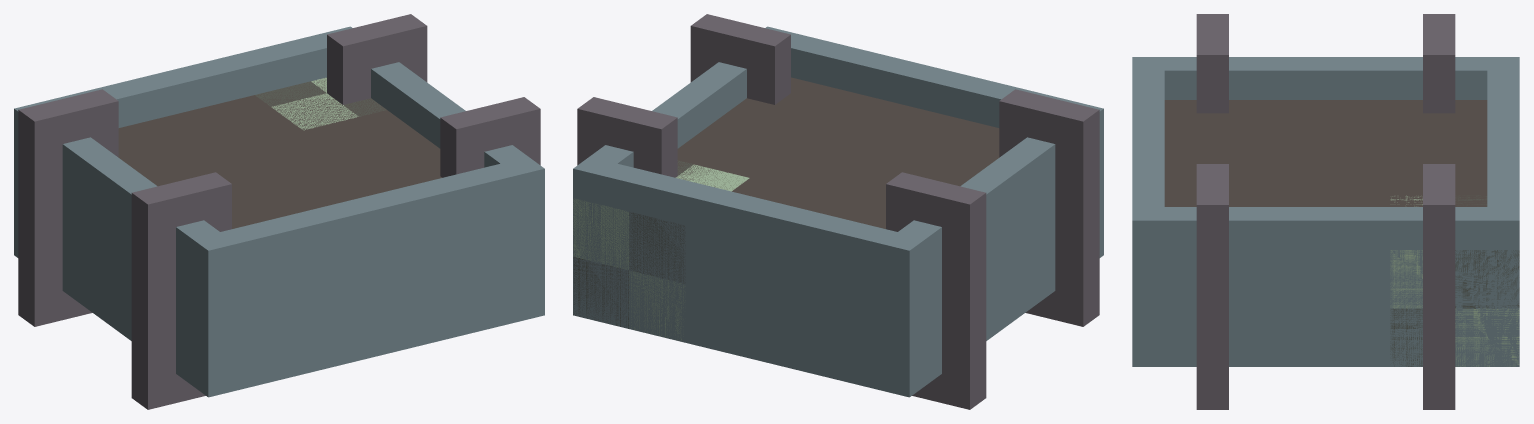
File: outpost_0.glb
3 renders of one model, left to right at view 1: azimuth 30°, elevation 25°; view 2: azimuth 150°, elevation 25°; view 3: azimuth 270°, elevation 25°, orthographic.
Visible parts, largest first — view 1: Mesh_3.003, Mesh_10, Mesh_0.003, Mesh_5.003, Mesh_6.002, Mesh_1.003, Mesh_2.003, Mesh_8, Mesh_4.003, Mesh_9; view 2: Mesh_1.003, Mesh_10, Mesh_0.003, Mesh_6.002, Mesh_5.003, Mesh_3.003, Mesh_9, Mesh_2.003, Mesh_4.003, Mesh_8; view 3: Mesh_2.003, Mesh_10, Mesh_0.003, Mesh_1.003, Mesh_4.003, Mesh_8, Mesh_3.003, Mesh_9, Mesh_5.003, Mesh_6.002.
Part boxes in pixels (box(x1,y1,x2,y2)): Mesh_3.003: box(192, 163, 544, 396); Mesh_10: box(118, 77, 442, 228); Mesh_0.003: box(14, 103, 236, 397); Mesh_5.003: box(18, 89, 118, 326); Mesh_6.002: box(131, 172, 231, 409); Mesh_1.003: box(14, 26, 352, 255); Mesh_2.003: box(324, 27, 544, 321); Mesh_8: box(327, 14, 427, 104); Mesh_4.003: box(440, 97, 540, 177); Mesh_9: box(255, 77, 386, 130); Mesh_1.003: box(573, 157, 925, 396); Mesh_10: box(676, 77, 999, 228); Mesh_0.003: box(881, 104, 1103, 397); Mesh_6.002: box(999, 89, 1099, 326); Mesh_5.003: box(886, 172, 986, 409); Mesh_3.003: box(766, 27, 1103, 257); Mesh_9: box(573, 160, 749, 341); Mesh_2.003: box(573, 26, 794, 319); Mesh_4.003: box(690, 14, 790, 104); Mesh_8: box(577, 97, 677, 177); Mesh_2.003: box(1132, 207, 1519, 366); Mesh_10: box(1164, 100, 1487, 206); Mesh_0.003: box(1132, 57, 1519, 99); Mesh_1.003: box(1487, 57, 1519, 366); Mesh_4.003: box(1196, 164, 1228, 409); Mesh_8: box(1423, 164, 1455, 409); Mesh_3.003: box(1132, 57, 1164, 366); Mesh_9: box(1390, 195, 1519, 366); Mesh_5.003: box(1423, 14, 1455, 113); Mesh_6.002: box(1196, 14, 1228, 113).
Bounding box in the file's own units: 3.5 × 1.75 × 3.
1 material, 1 textured.
